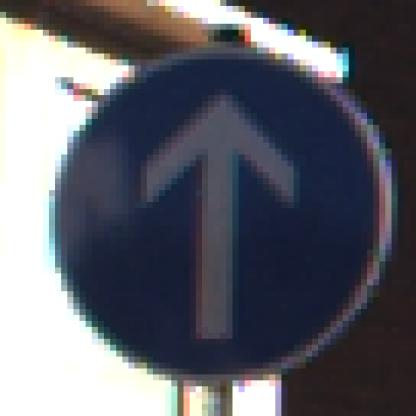AheadOnly: (38, 43, 374, 381)
